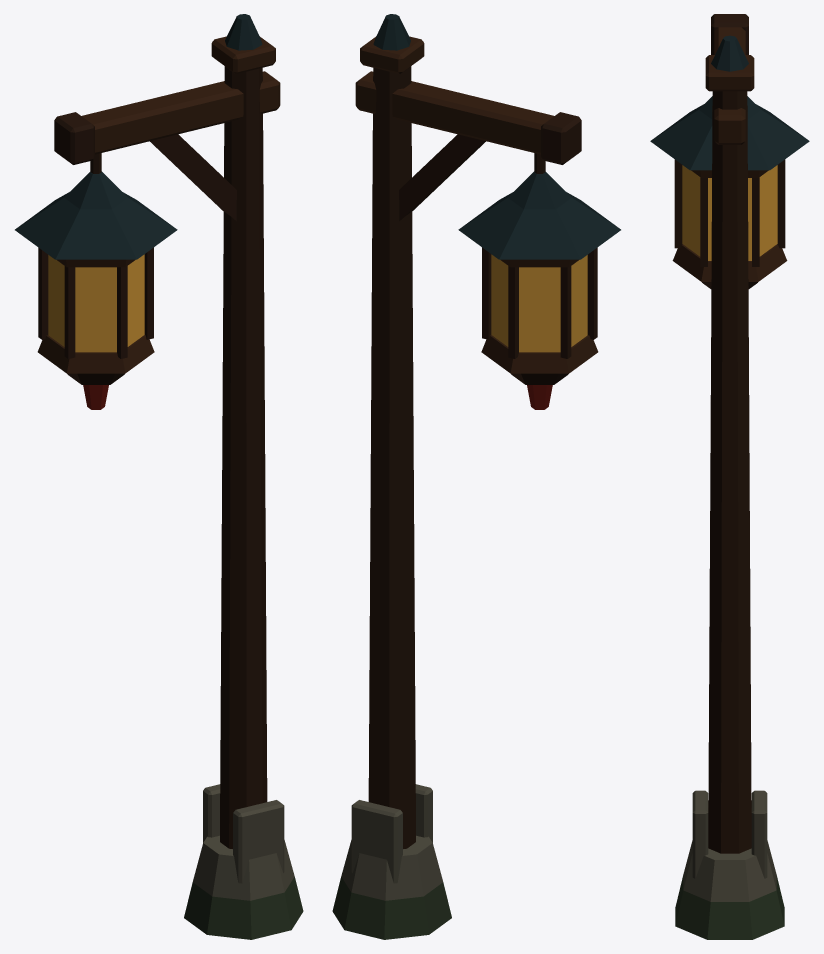
File: hanging_lantern_v2.glb
3 renders of one model, left to right at view 1: azimuth 30°, elevation 25°; view 2: azimuth 150°, elevation 25°; view 3: azimuth 270°, elevation 25°, orthographic. The views are drawn at different scales.
Visible parts, largest first — view 1: HangingLanternV2; view 2: HangingLanternV2; view 3: HangingLanternV2.
Part boxes in pixels (bbox=[...]): HangingLanternV2: bbox=[15, 14, 303, 939]; HangingLanternV2: bbox=[332, 14, 620, 939]; HangingLanternV2: bbox=[650, 14, 809, 939].
Size of the model in its own units: 0.8362 by 2.79 by 0.46.
